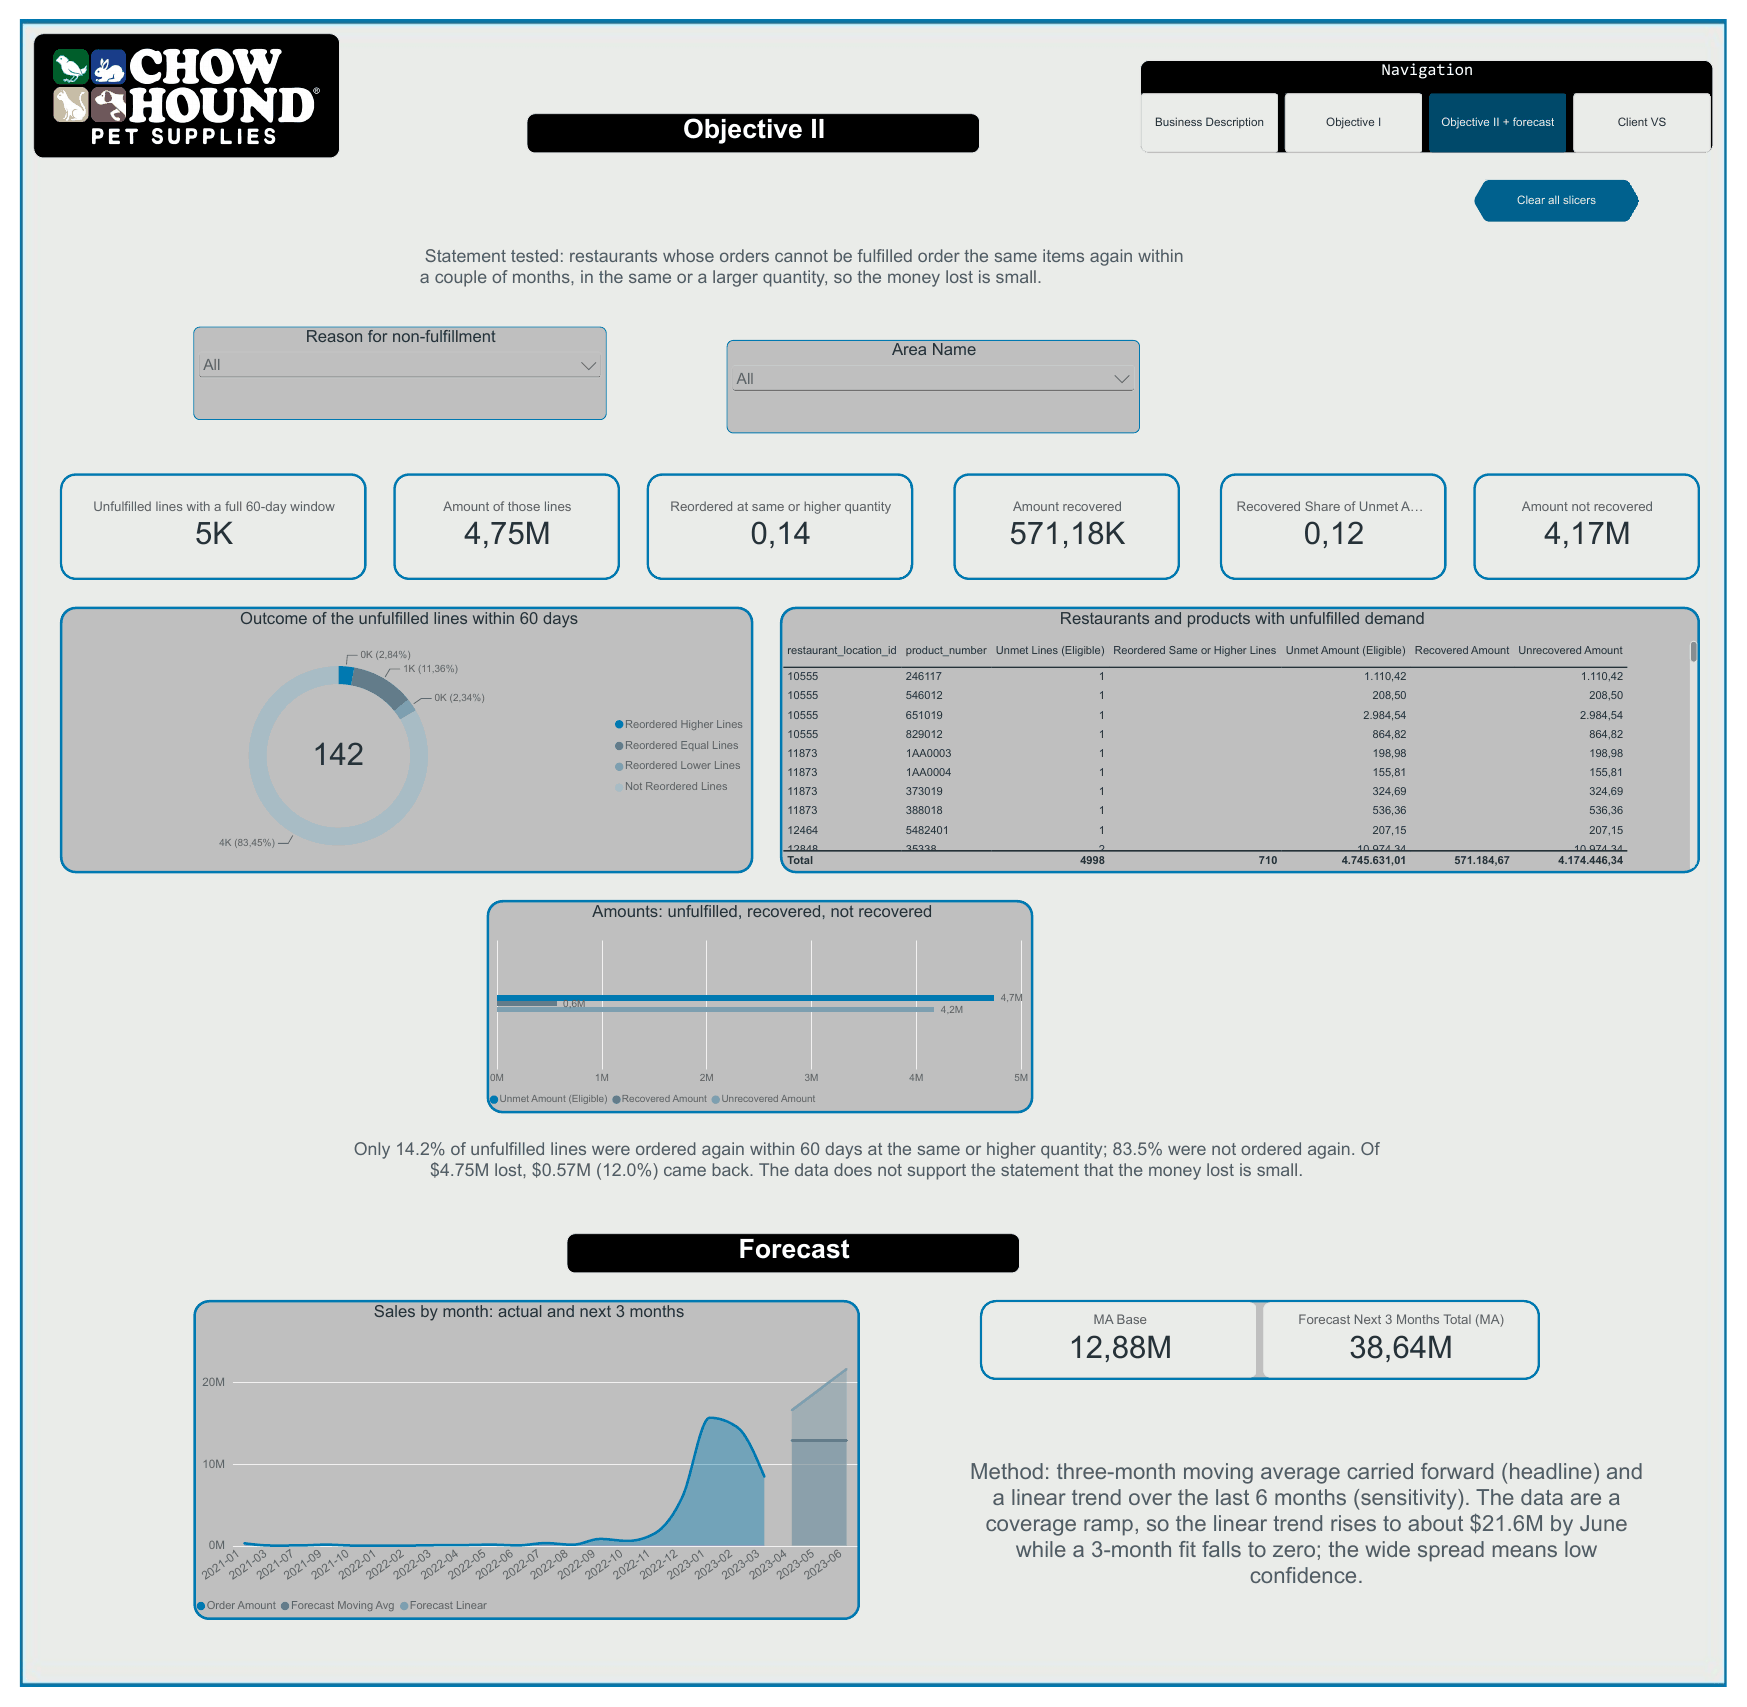

This screenshot's page, from the dashboard's own definition file:
{"tool":"powerbi","page":{"name":"Objective II + forecast","canvas":[2048,2000],"ordinal":2},"visuals":[{"type":"donutChart","title":"Outcome of the unfulfilled lines within 60 days","fields":{"Y":["Metrics.Reordered Higher Lines","Metrics.Reordered Equal Lines","Metrics.Reordered Lower Lines","Metrics.Not Reordered Lines"]},"box":[48,704,832,320],"z":0},{"type":"tableEx","title":"Restaurants and products with unfulfilled demand","fields":{"Values":["dim_restaurant.restaurant_location_id","dim_product.product_number","Metrics.Unmet Lines (Eligible)","Metrics.Reordered Same or Higher Lines","Metrics.Unmet Amount (Eligible)","Metrics.Recovered Amount","Metrics.Unrecovered Amount"]},"box":[912,704,1104,320],"z":1000},{"type":"pageNavigator","title":"Navigation","box":[1344,48,688,112],"z":2000},{"type":"image","box":[16,16,368,150],"z":3000},{"type":"textbox","title":"Objective II","box":[608,112,544,48],"z":4000},{"type":"actionButton","box":[1744,192,200,50],"z":5000},{"type":"textbox","box":[480,272,928,80],"z":6000},{"type":"slicer","title":"Reason for non-fulfillment","fields":{"Values":["dim_reason_code.reason_description"]},"box":[208,368,496,112],"z":7000},{"type":"slicer","title":"Area Name","fields":{"Values":["dim_restaurant.restaurant_area_name"]},"box":[848,384,496,112],"z":8000},{"type":"cardVisual","fields":{"Data":["Metrics.Unmet Lines (Eligible)"]},"box":[48,544,368,128],"z":9000},{"type":"cardVisual","fields":{"Data":["Metrics.Reorder Rate (Same or Higher)"]},"box":[752,544,320,128],"z":10000},{"type":"cardVisual","fields":{"Data":["Metrics.Recovered Amount"]},"box":[1120,544,272,128],"z":11000},{"type":"cardVisual","fields":{"Data":["Metrics.Unmet Amount (Eligible)"]},"box":[448,544,272,128],"z":12000},{"type":"cardVisual","fields":{"Data":["Metrics.Recovered Share of Unmet Amount"]},"box":[1440,544,272,128],"z":13000},{"type":"cardVisual","fields":{"Data":["Metrics.Unrecovered Amount"]},"box":[1744,544,272,128],"z":14000},{"type":"clusteredBarChart","title":"Amounts: unfulfilled, recovered, not recovered","fields":{"Y":["Metrics.Unmet Amount (Eligible)","Metrics.Recovered Amount","Metrics.Unrecovered Amount"]},"box":[560,1056,656,256],"z":15000},{"type":"textbox","box":[384,1344,1264,64],"z":16000},{"type":"textbox","title":"Forecast","box":[656,1456,544,48],"z":17000},{"type":"lineChart","title":"Sales by month: actual and next 3 months","fields":{"Category":["dim_date.year_month"],"Y":["Metrics.Order Amount","Metrics.Forecast Moving Avg","Metrics.Forecast Linear"]},"box":[208,1536,800,384],"z":18000},{"type":"cardVisual","fields":{"Data":["Metrics.MA Base","Metrics.Forecast Next 3 Months Total (MA)"]},"box":[1152,1536,672,96],"z":19000},{"type":"textbox","box":[1136,1728,816,192],"z":20000}]}

Visuals, with their boxes in screenshot pixels (x1, y1, x2, y2), scaled from the page's 2048x2000 canvas onto the 1747x1707 screenshot:
"Outcome of the unfulfilled lines within 60 days" donutChart: 41, 601, 751, 874
"Restaurants and products with unfulfilled demand" tableEx: 778, 601, 1720, 874
"Navigation" pageNavigator: 1146, 41, 1733, 137
image: 14, 14, 328, 142
"Objective II" textbox: 519, 96, 983, 137
actionButton: 1488, 164, 1658, 207
textbox: 409, 232, 1201, 300
"Reason for non-fulfillment" slicer: 177, 314, 601, 410
"Area Name" slicer: 723, 328, 1146, 423
cardVisual - Metrics.Unmet Lines (Eligible): 41, 464, 355, 574
cardVisual - Metrics.Reorder Rate (Same or Higher): 641, 464, 914, 574
cardVisual - Metrics.Recovered Amount: 955, 464, 1187, 574
cardVisual - Metrics.Unmet Amount (Eligible): 382, 464, 614, 574
cardVisual - Metrics.Recovered Share of Unmet Amount: 1228, 464, 1460, 574
cardVisual - Metrics.Unrecovered Amount: 1488, 464, 1720, 574
"Amounts: unfulfilled, recovered, not recovered" clusteredBarChart: 478, 901, 1037, 1120
textbox: 328, 1147, 1406, 1202
"Forecast" textbox: 560, 1243, 1024, 1284
"Sales by month: actual and next 3 months" lineChart: 177, 1311, 860, 1639
cardVisual - Metrics.MA Base x Metrics.Forecast Next 3 Months Total (MA): 983, 1311, 1556, 1393
textbox: 969, 1475, 1665, 1639
